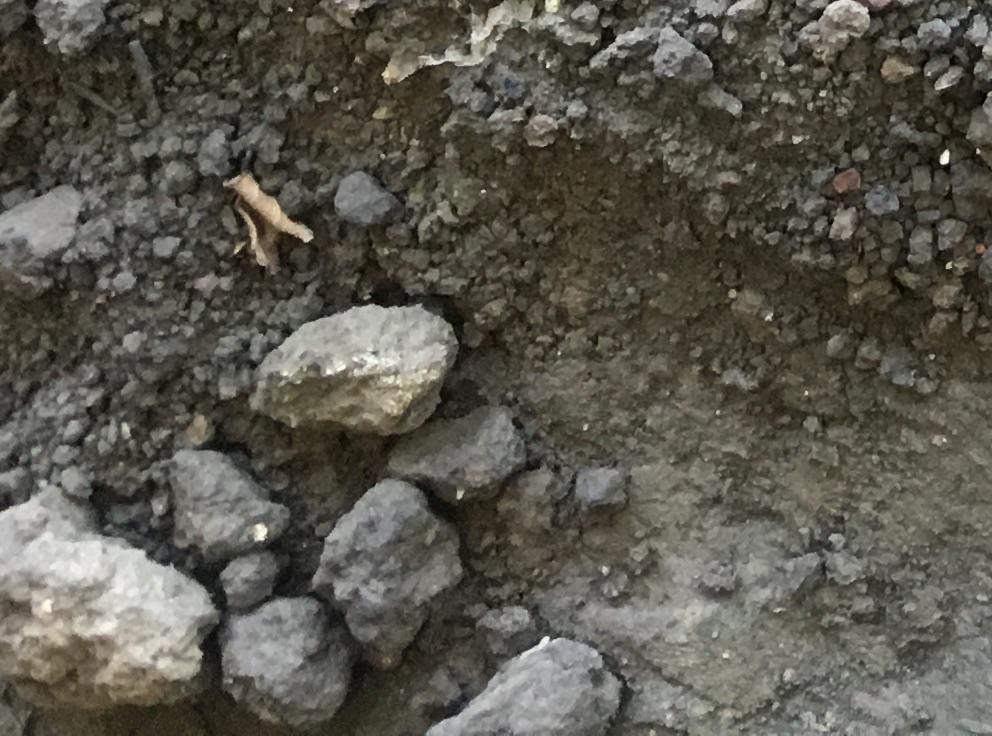block: (1, 495, 208, 719), (245, 302, 457, 435), (315, 477, 455, 664), (422, 639, 630, 736), (223, 599, 354, 730), (167, 446, 281, 562), (1, 181, 83, 294)
